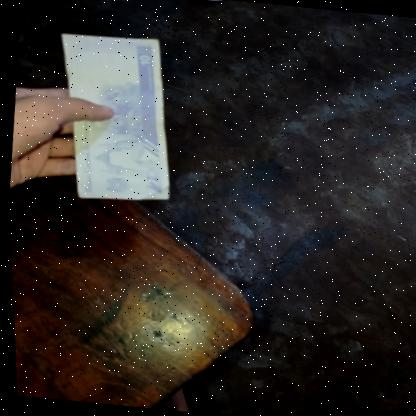ten-back-vef: (41, 28, 185, 207)
